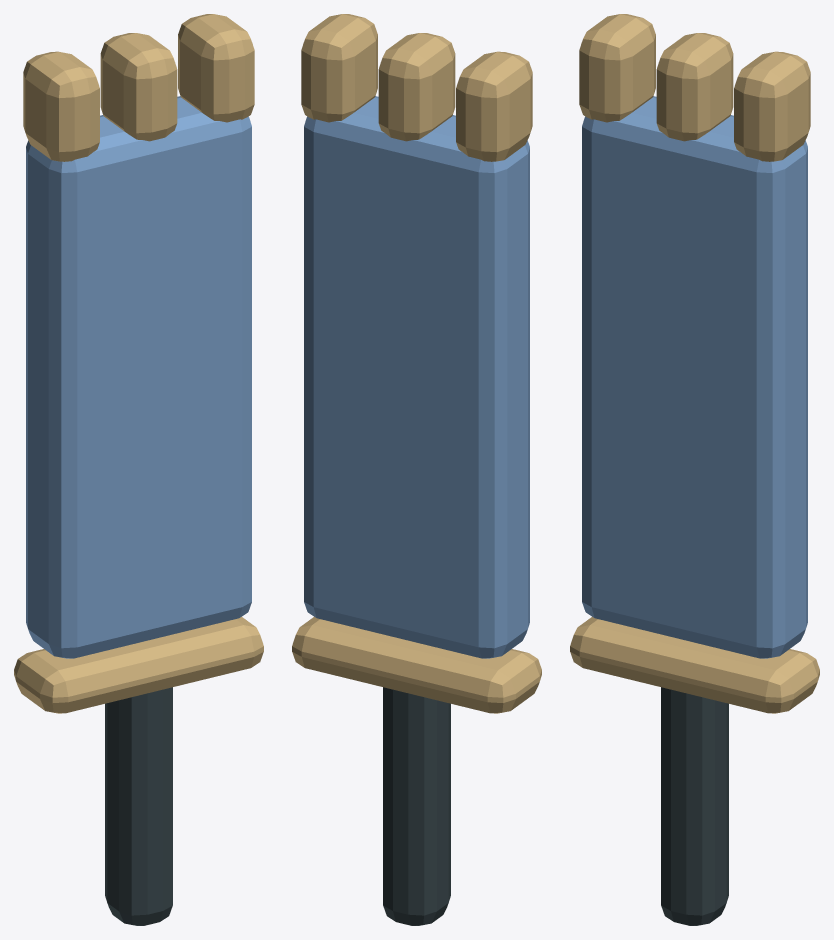
The model's file is arm_aegis_weapon.glb.
3 views of the same model, side by side, from view 1: azimuth 30°, elevation 25°; view 2: azimuth 150°, elevation 25°; view 3: azimuth 330°, elevation 25° (orthographic).
Visible parts, largest first — view 1: arm_aegis_weapon; view 2: arm_aegis_weapon; view 3: arm_aegis_weapon.
Part boxes in pixels (<box>): arm_aegis_weapon: <box>14,14,263,925</box>; arm_aegis_weapon: <box>292,14,541,925</box>; arm_aegis_weapon: <box>570,14,819,925</box>.
Size of the model in its own units: 0.43 by 1.63 by 0.15.
